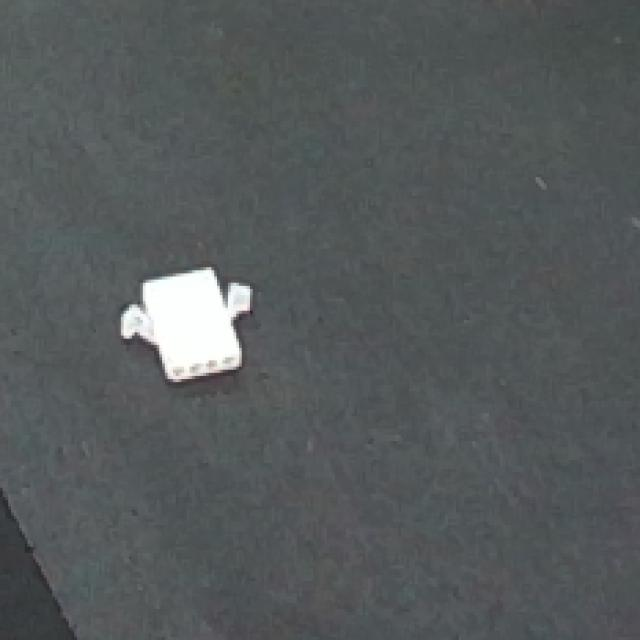Target: (106, 250, 273, 388), (439, 0, 566, 3)
